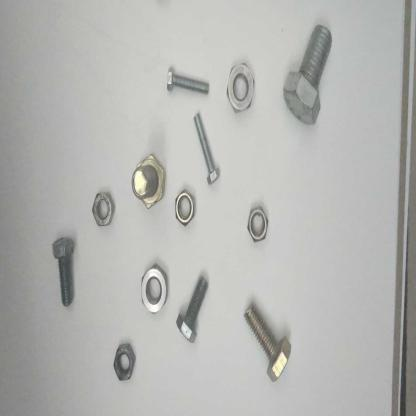Bolts: (280, 20, 335, 132), (242, 300, 298, 384), (176, 269, 213, 350), (191, 110, 228, 188), (129, 151, 168, 222), (48, 232, 82, 309), (164, 64, 212, 104)
NUTS: (138, 262, 169, 319), (225, 60, 257, 113), (171, 184, 203, 236), (110, 340, 144, 387), (86, 187, 119, 234), (245, 200, 272, 257)
